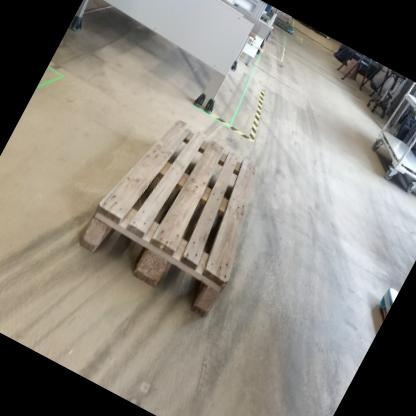BoxFace: (70, 111, 266, 328)
